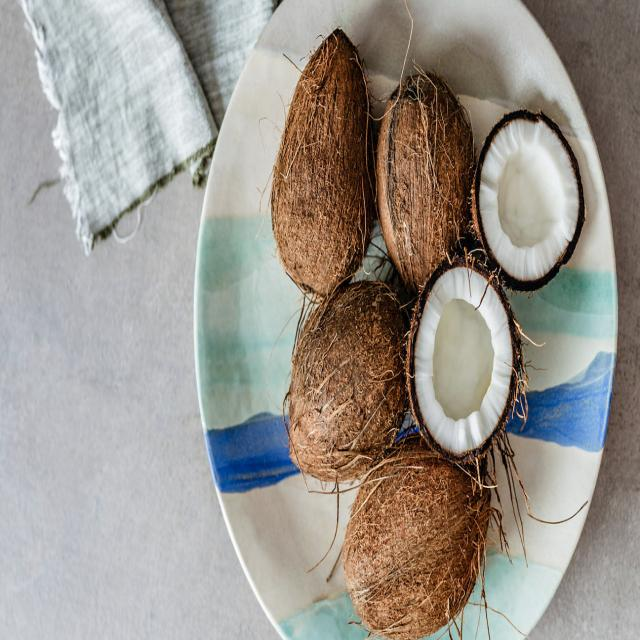coconut: (342, 433, 494, 640), (271, 26, 375, 297), (286, 281, 406, 486), (404, 260, 523, 465), (371, 69, 476, 288), (471, 106, 587, 290)
